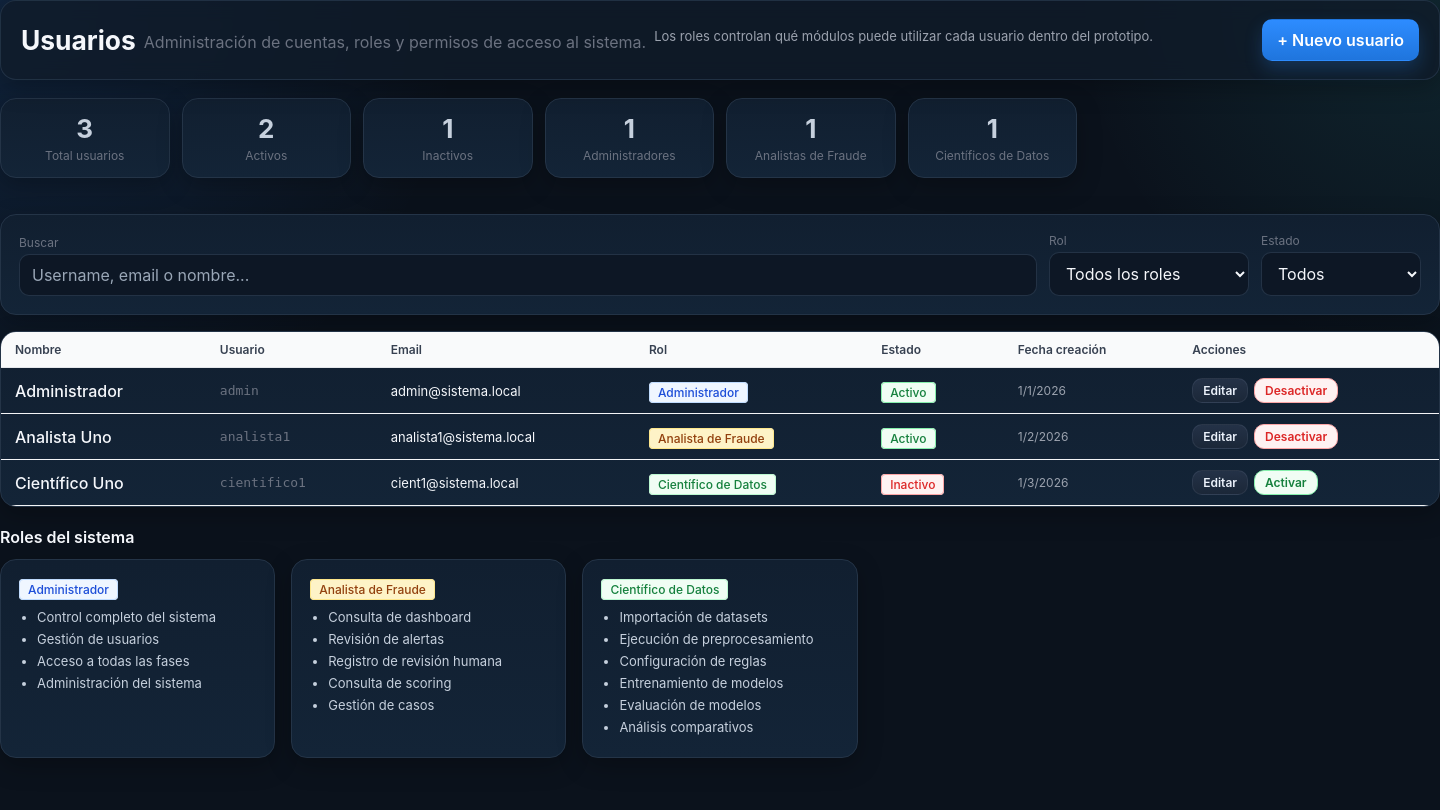
it: Pantalla Usuarios › valida campos requeridos en creación
Expected: the text "Analista Uno" is shown, [1, 414, 206, 460]
Click the button with test id "btn-nuevo-usuario": (1341, 40) [1262, 19, 1419, 61]
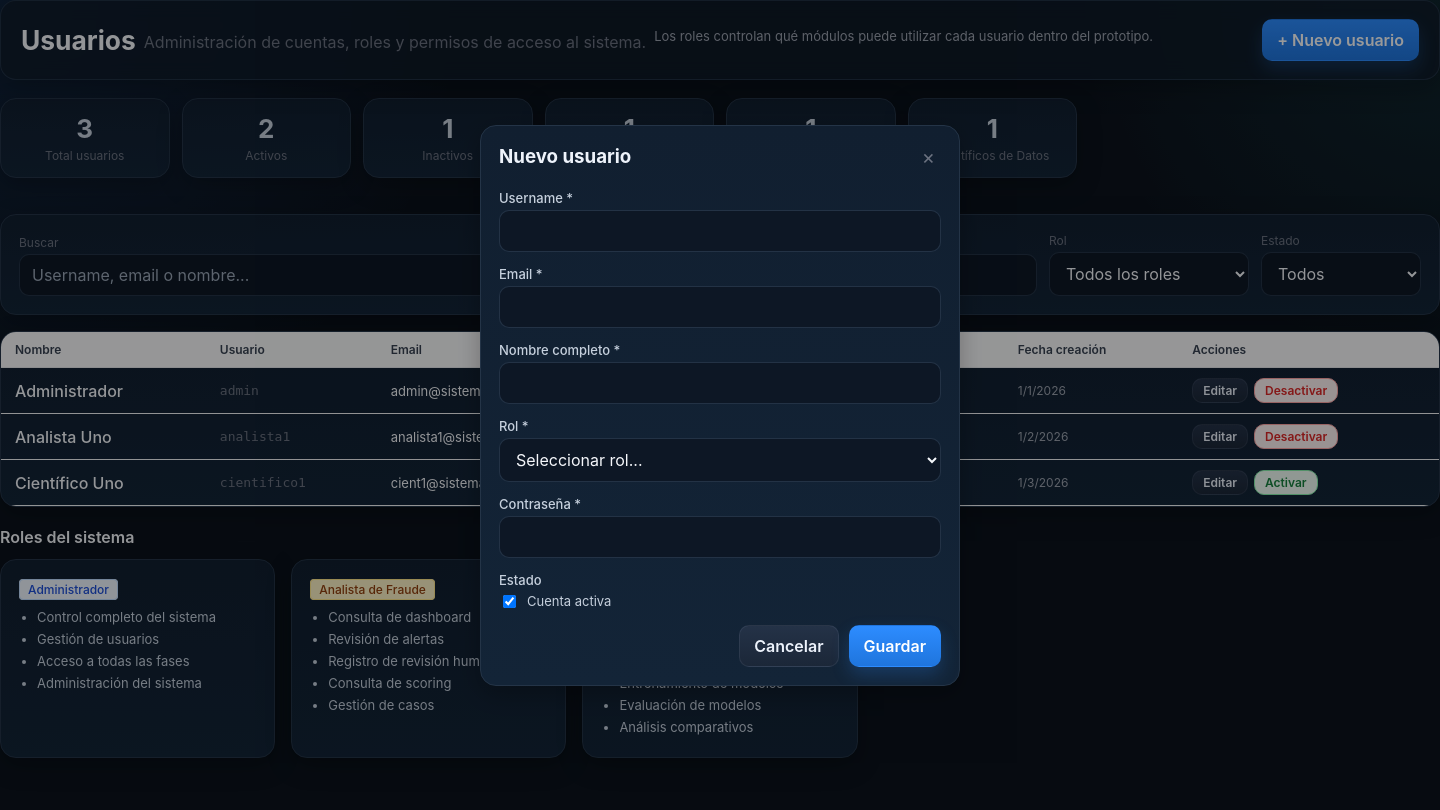
Expected: the button with test id "btn-guardar" is shown
Click the button with test id "btn-guardar": (895, 646) [848, 624, 941, 666]
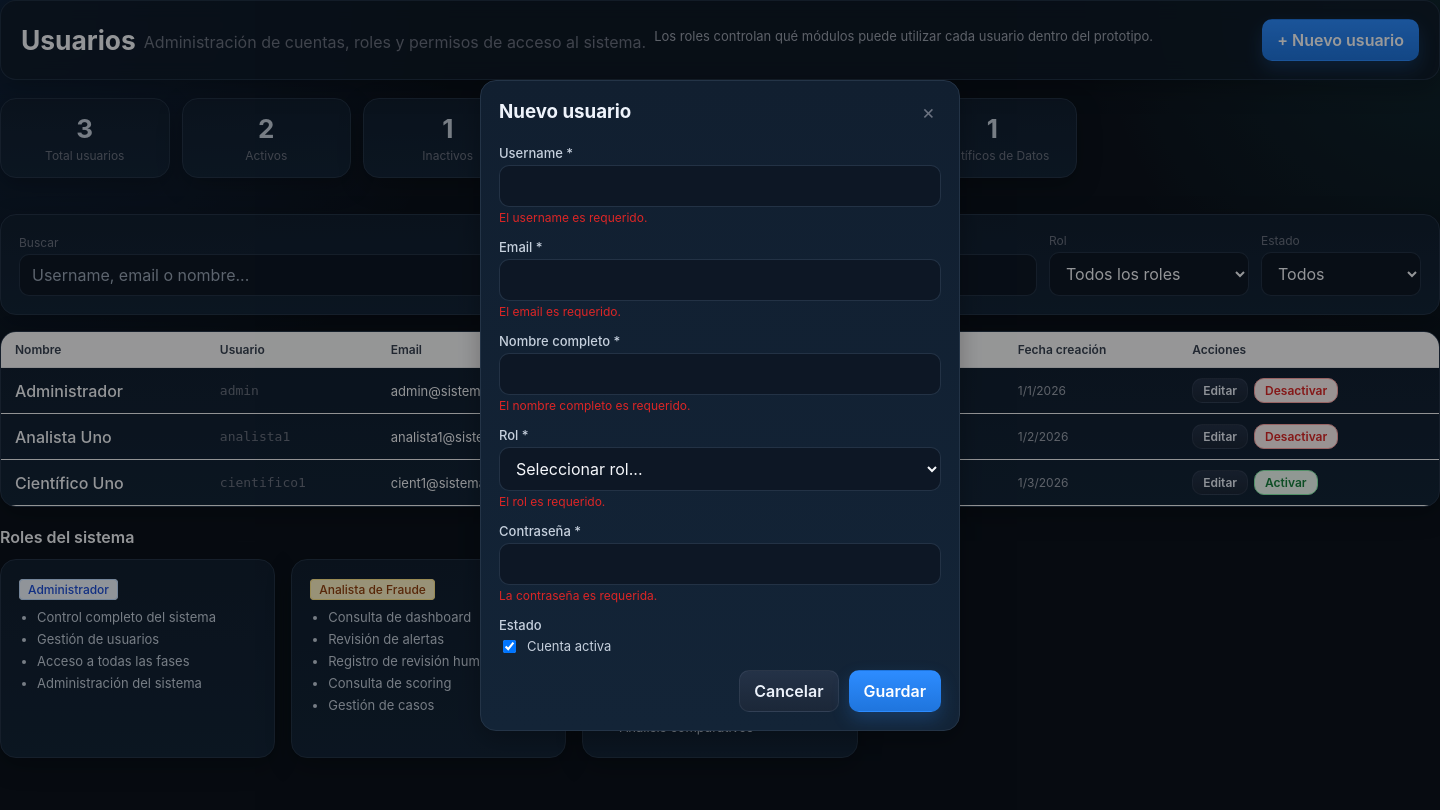
Expected: the text "El username es requerido." is shown, [499, 210, 647, 224]
